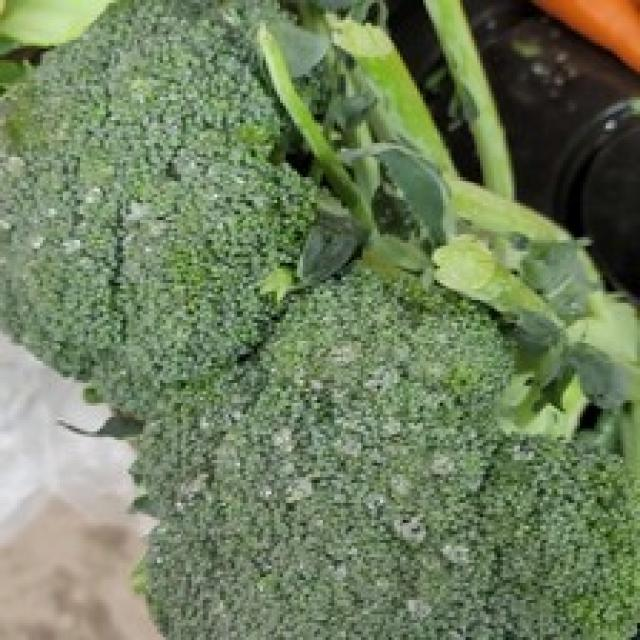Broccoli: (0, 2, 640, 639), (0, 4, 640, 639)
